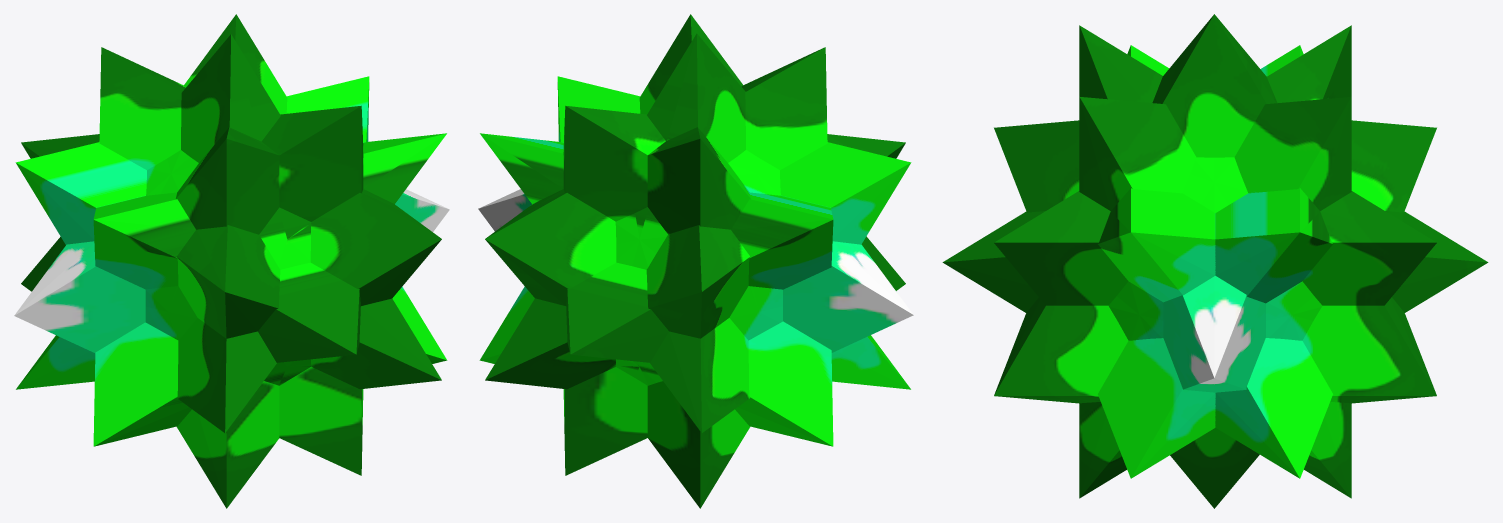
Rendered from ESpark.glb.
3 renders of one model, left to right at view 1: azimuth 30°, elevation 25°; view 2: azimuth 150°, elevation 25°; view 3: azimuth 270°, elevation 25°, orthographic. The views are drawn at different scales.
Visible parts, largest first — view 1: ESpark; view 2: ESpark; view 3: ESpark.
Boxes of the visible parts, x1=… form: ESpark: x1=14, y1=14, x2=449, y2=508; ESpark: x1=478, y1=14, x2=913, y2=508; ESpark: x1=942, y1=14, x2=1488, y2=508.
Bounding box in the file's own units: 6.04 × 6.04 × 6.04.
Materials: 1 (1 with a texture image).
